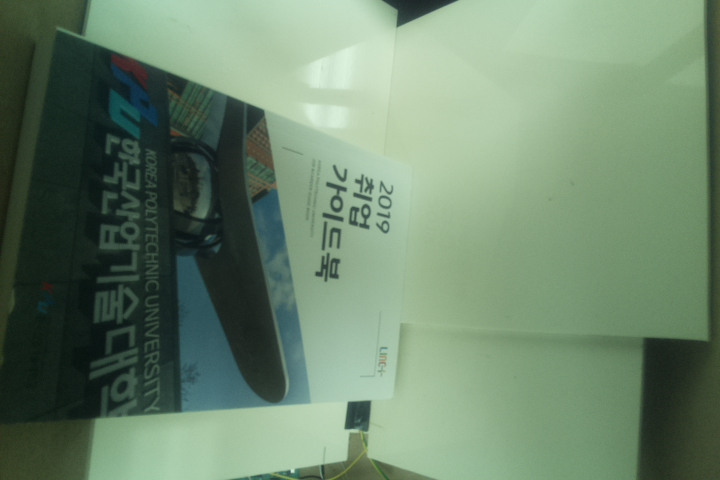book: (1, 26, 413, 429)
